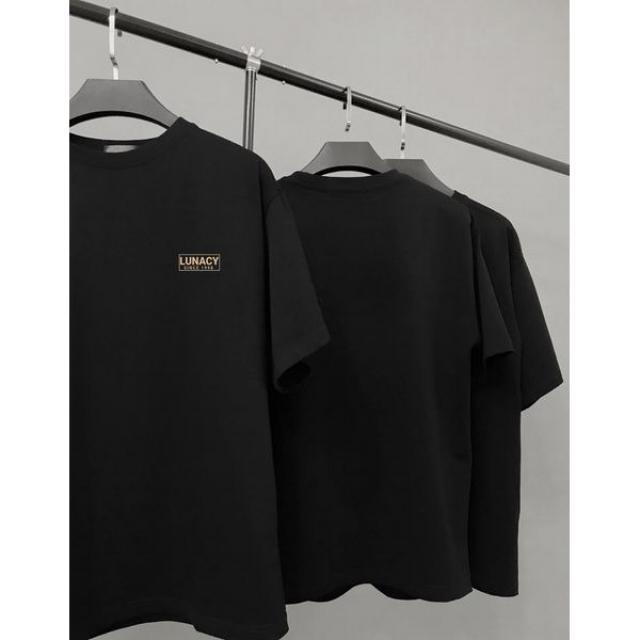Shirt: (62, 114, 326, 639), (271, 166, 511, 606)
